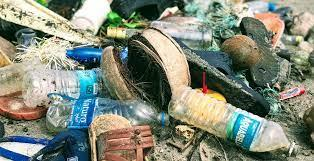bottle: (167, 82, 299, 161), (44, 92, 173, 139), (18, 67, 109, 112)
